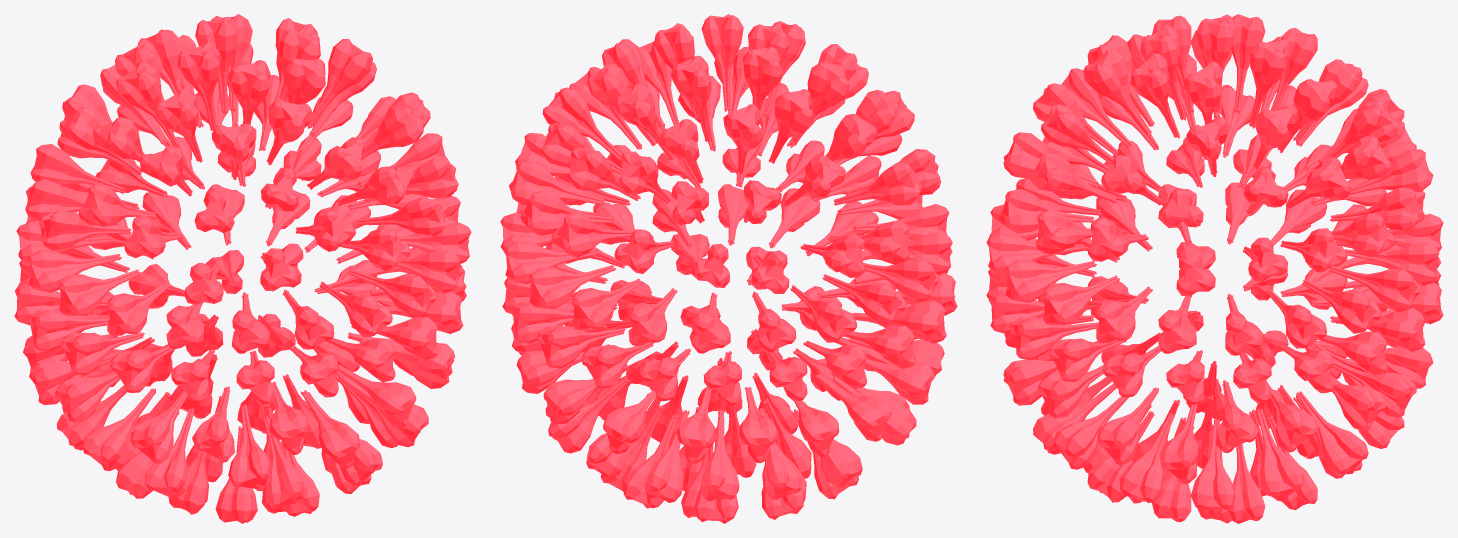
The model's file is proteina_spike.fbx.
3 views of the same model, side by side, from view 1: azimuth 30°, elevation 25°; view 2: azimuth 150°, elevation 25°; view 3: azimuth 270°, elevation 25° (orthographic).
Visible parts, largest first — view 1: Spike Glycoprotein (S).001; view 2: Spike Glycoprotein (S).001; view 3: Spike Glycoprotein (S).001.
Part boxes in pixels (box(x1,y1,x2,y2)): Spike Glycoprotein (S).001: box(14, 14, 471, 523); Spike Glycoprotein (S).001: box(500, 14, 957, 523); Spike Glycoprotein (S).001: box(986, 14, 1443, 523).
Size of the model in its own units: 24.68 by 27.48 by 24.47.
